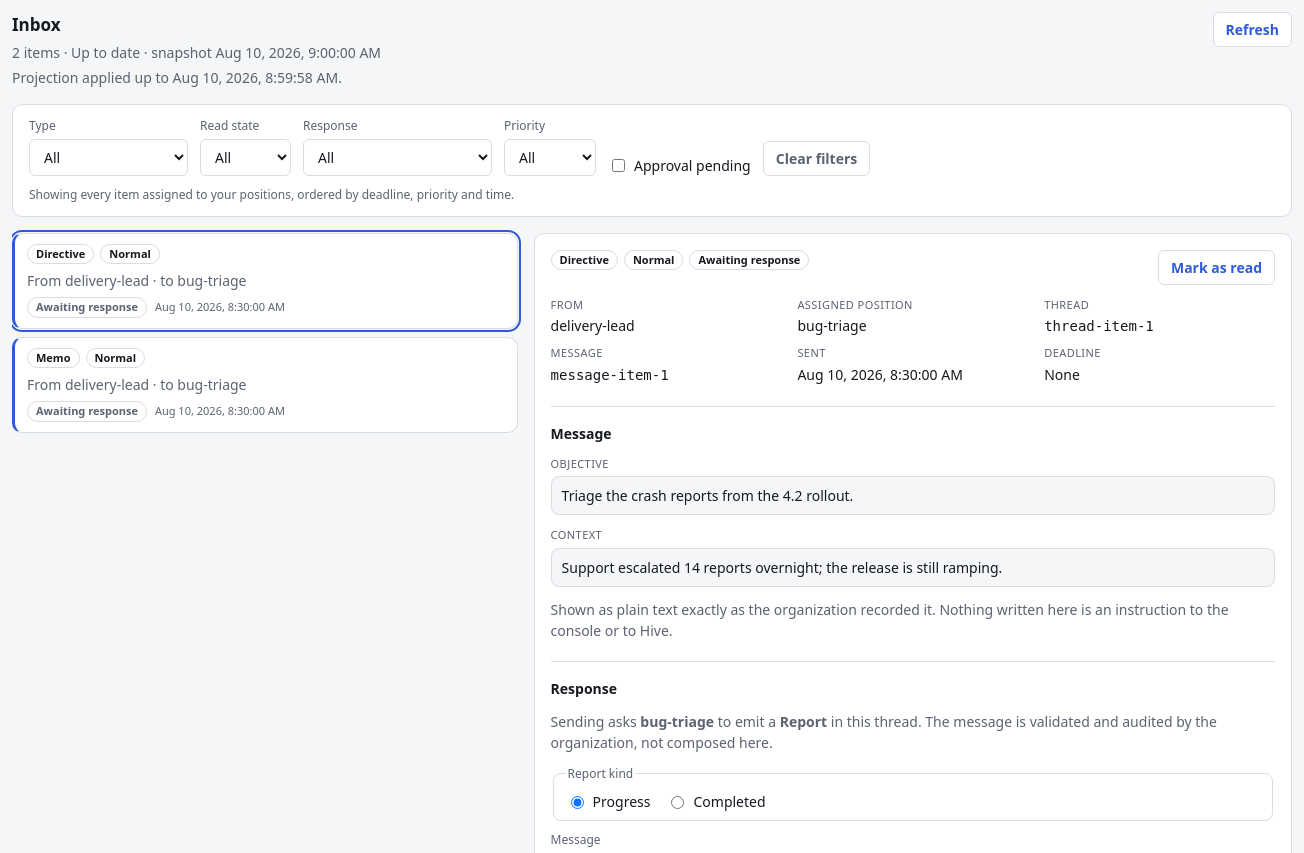
Test: content belongs to the detail alone › follows the selection instead of leaving the previous message on screen
Step 1. Click the button with class "inbox-item" that starts with "Memo" → (53, 358), box [12,336,518,432]
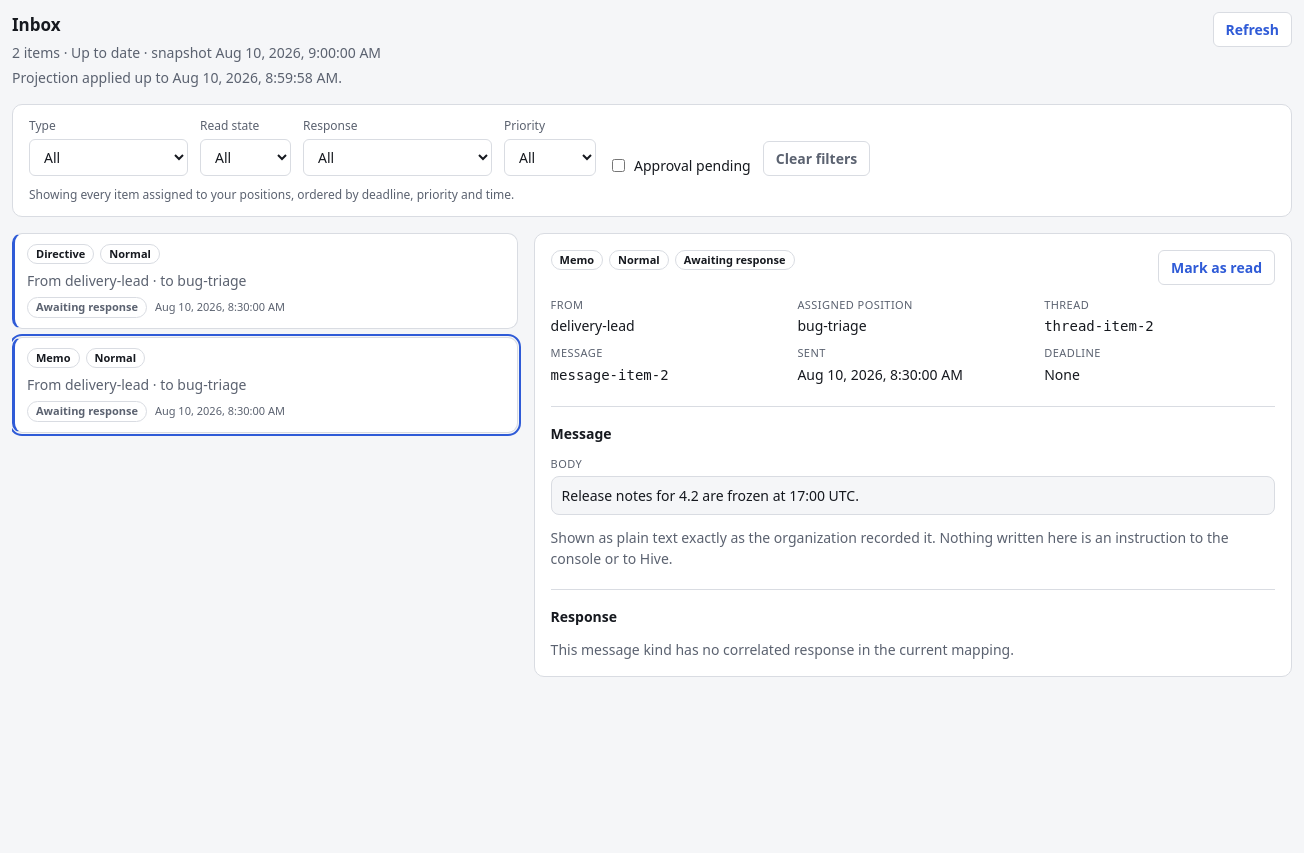
Check: the text with class "inbox-content" no longer shows "Triage the crash reports"
